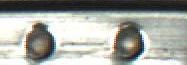joints: (18, 19, 58, 63), (112, 18, 149, 64)
